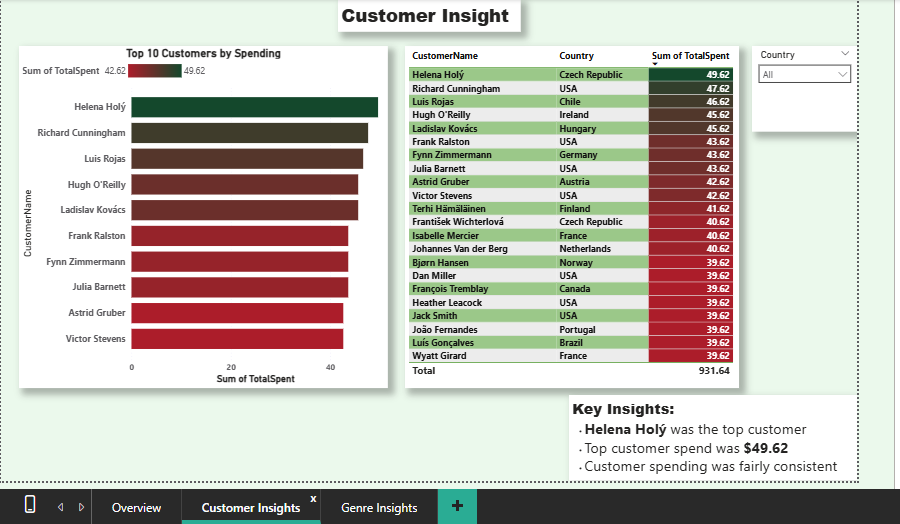

This screenshot's page, from the dashboard's own definition file:
{"tool":"powerbi","page":{"name":"Customer Insights","canvas":[1280,720],"ordinal":1},"visuals":[{"type":"clusteredBarChart","title":"Top 10 Customers by Spending","fields":{"Category":["TopCustomerz.CustomerName"],"Y":["Sum(TopCustomerz.TotalSpent)"]},"box":[26.9,70.2,551.2,510.9],"z":0},{"type":"tableEx","fields":{"Values":["TopCustomerz.CustomerName","TopCustomerz.Country","Sum(TopCustomerz.TotalSpent)"]},"box":[603.5,70.2,498.9,510.9],"z":1000},{"type":"slicer","fields":{"Values":["TopCustomerz.Country"]},"box":[1121.8,70.2,158.3,128.5],"z":2000},{"type":"textbox","box":[503.3,0,273.4,49.3],"z":3000},{"type":"textbox","box":[848.3,591.5,431.7,128.5],"z":4000}]}

Visuals, with their boxes on the page's 1280x720 design canvas (x1, y1, x2, y2). These are canvas units, not pixel positions in the 900x524 screenshot, which may show the page scaled, cropped or inside an application window:
"Top 10 Customers by Spending" clusteredBarChart: <region>27, 70, 578, 581</region>
tableEx - TopCustomerz.CustomerName x TopCustomerz.Country: <region>604, 70, 1102, 581</region>
slicer - TopCustomerz.Country: <region>1122, 70, 1280, 199</region>
textbox: <region>503, 0, 777, 49</region>
textbox: <region>848, 592, 1280, 720</region>
